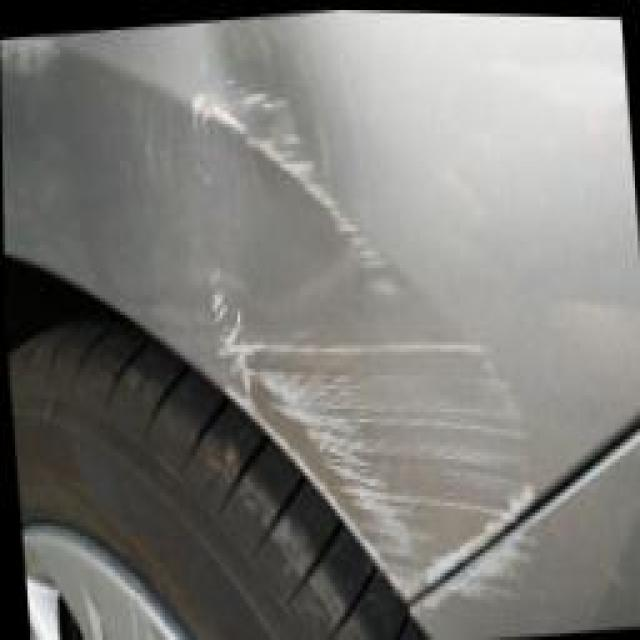Bumper: (404, 498, 580, 639)
Fender: (154, 9, 546, 597)
